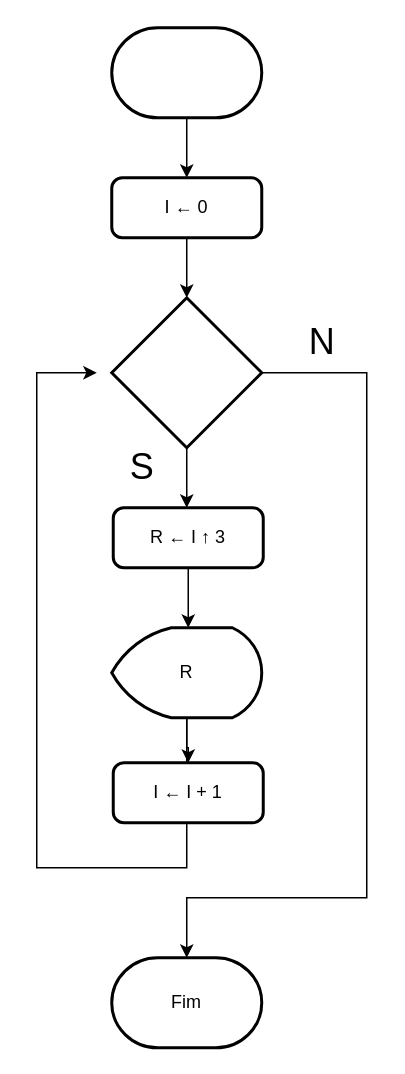
The diagram is 405 pixels wide and 1074 high, and some of its shapes have lost their labels. The centre of each missing label's shape, as x and y in pixels:
"I <= 15" belongs at (x=186, y=372).
"inicio" belongs at (x=186, y=72).
